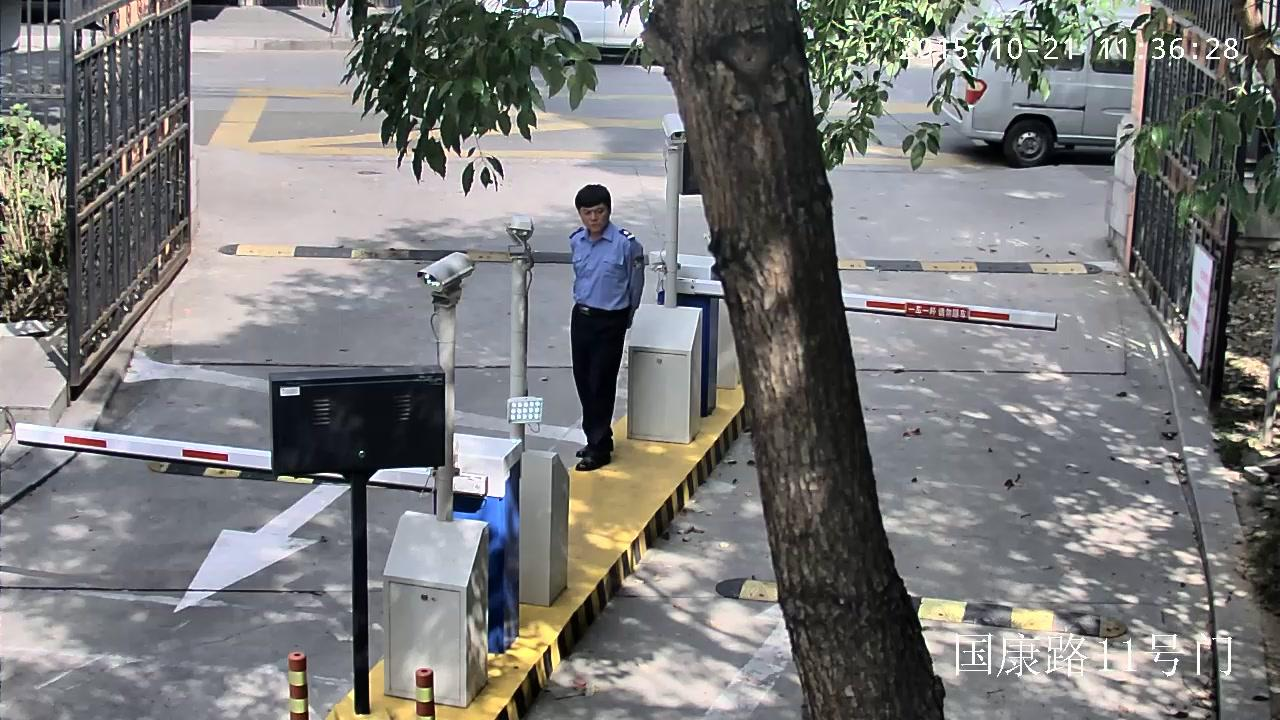face: (578, 203, 606, 232)
